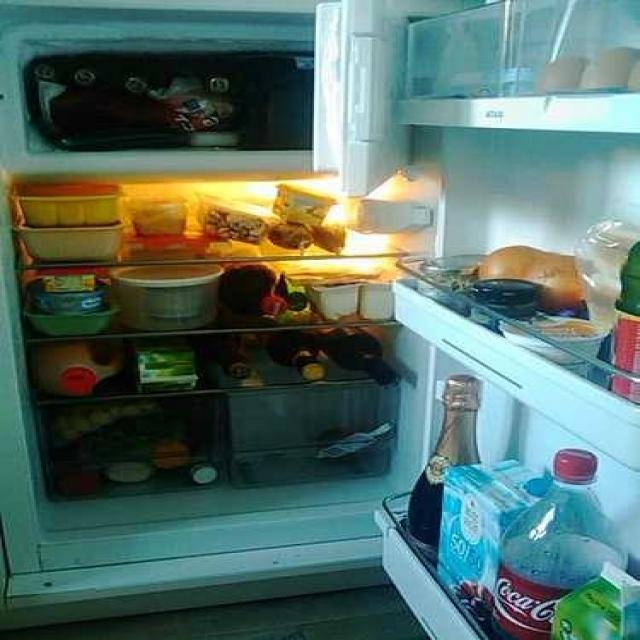refrigerator: (0, 0, 633, 600)
